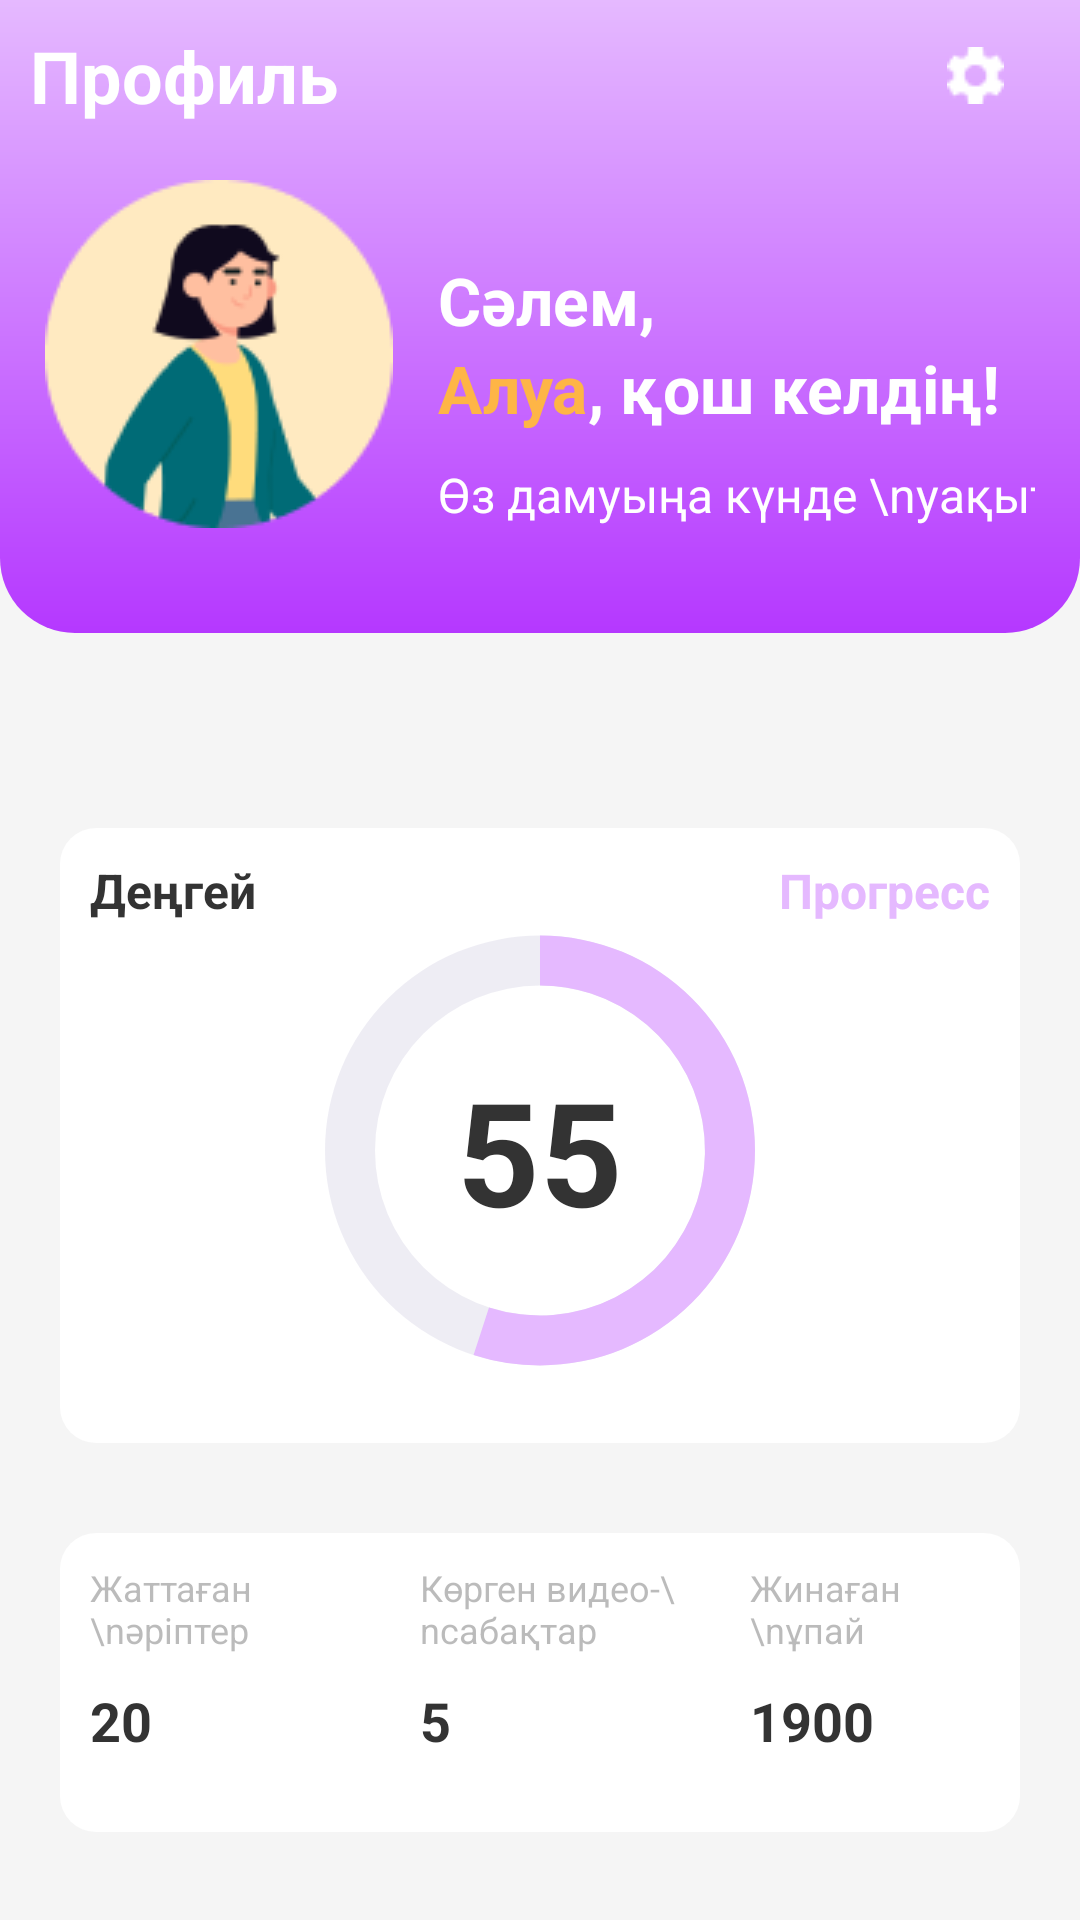

Icons on this 1080 x 1920 Android screen, each with the point to tap as [x,y]:
profile photo: [219,354]
